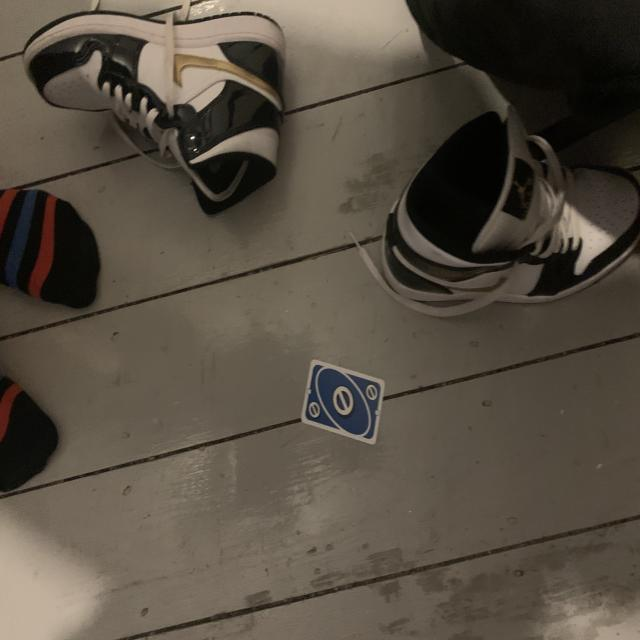lblueskip-20: (307, 400, 321, 420)
